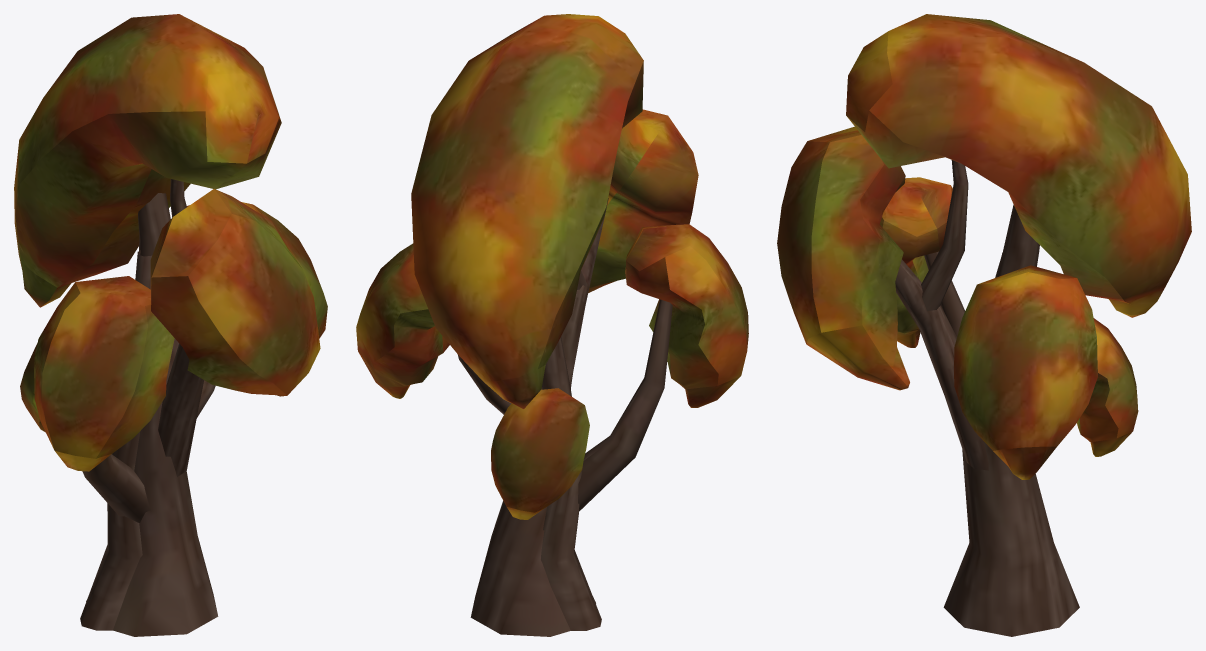
File: Tree01.glb
The picture shows the model from 3 angles, left to right: view 1: azimuth 30°, elevation 25°; view 2: azimuth 150°, elevation 25°; view 3: azimuth 270°, elevation 25°; orthographic projection. The views are drawn at different scales.
Visible parts, largest first — view 1: Tree01; view 2: Tree01; view 3: Tree01.
Boxes of the visible parts, box(x1,y1,x2,y2) form: Tree01: box(14, 14, 327, 636); Tree01: box(356, 14, 748, 636); Tree01: box(777, 14, 1191, 636).
Size of the model in its own units: 4.04 by 6.74 by 4.35.
2 materials, 2 textured.
